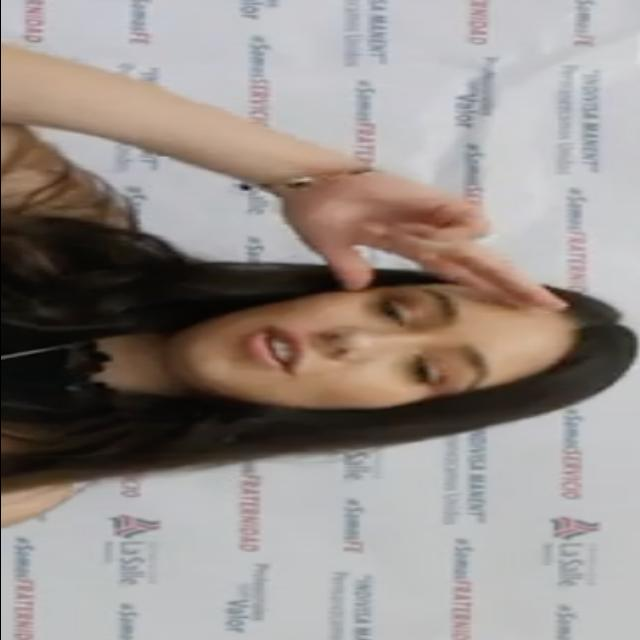hola: (287, 169, 579, 313)
